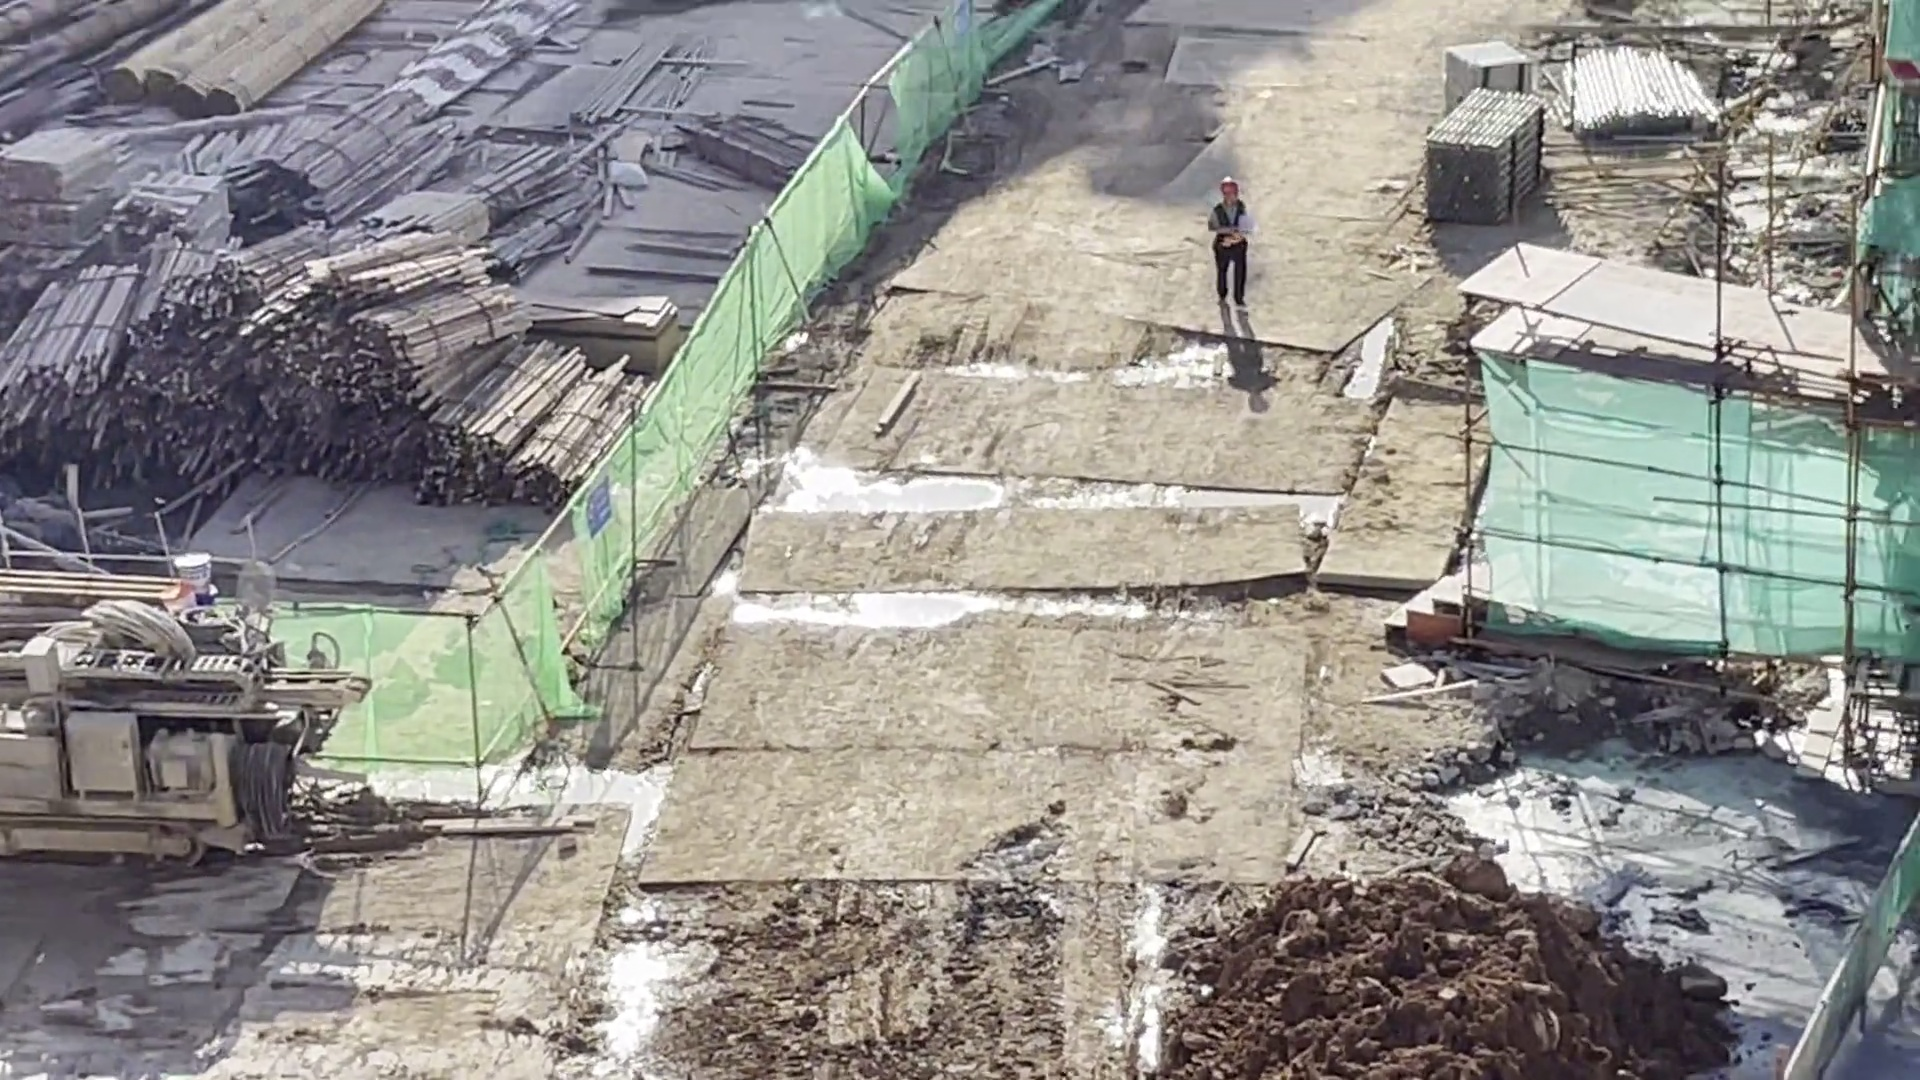helmet: (1221, 178, 1241, 196)
person: (1210, 176, 1259, 313)
scaffold: (1415, 81, 1545, 222), (1562, 47, 1710, 139), (1447, 39, 1540, 90)
wood: (128, 230, 520, 506), (430, 337, 645, 516), (239, 91, 464, 219), (6, 263, 117, 456), (542, 294, 679, 369), (689, 100, 784, 185), (492, 134, 571, 220)
